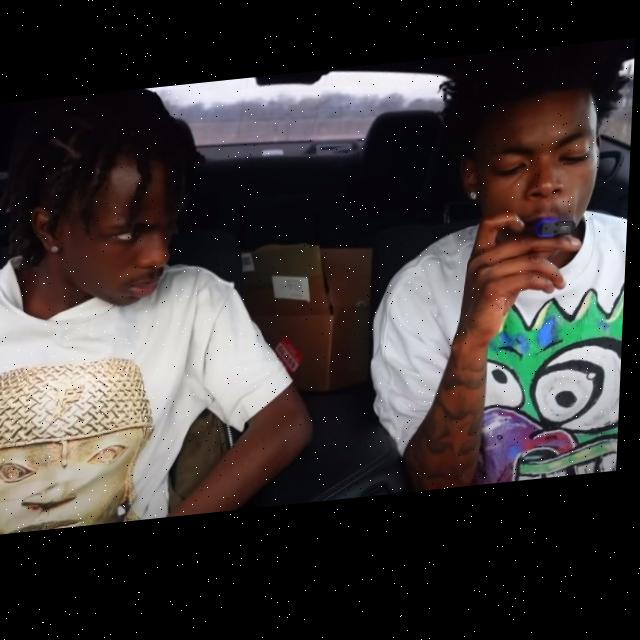vape: (536, 226, 580, 253)
